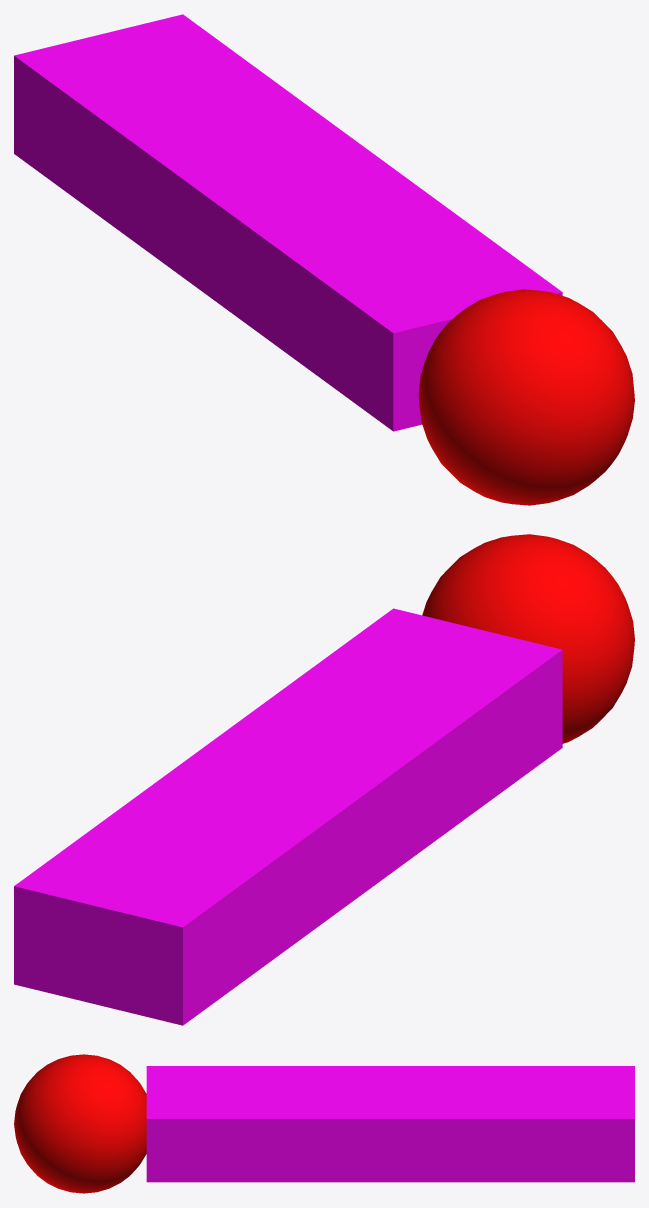
File: xcobra-dummy-0.FBX
The picture shows the model from 3 angles, top to bottom: view 1: azimuth 30°, elevation 25°; view 2: azimuth 150°, elevation 25°; view 3: azimuth 270°, elevation 25°; orthographic projection. The views are drawn at different scales.
Parts seen in each view (by area): view 1: Cube, Sphere; view 2: Cube, Sphere; view 3: Cube, Sphere.
Part boxes in pixels (<box>): Cube: <box>14,14,562,431</box>; Sphere: <box>418,289,634,505</box>; Cube: <box>14,608,562,1025</box>; Sphere: <box>422,534,634,743</box>; Cube: <box>146,1066,634,1182</box>; Sphere: <box>14,1054,146,1193</box>.
Size of the model in its own units: 0.04 by 0.04 by 0.178.
